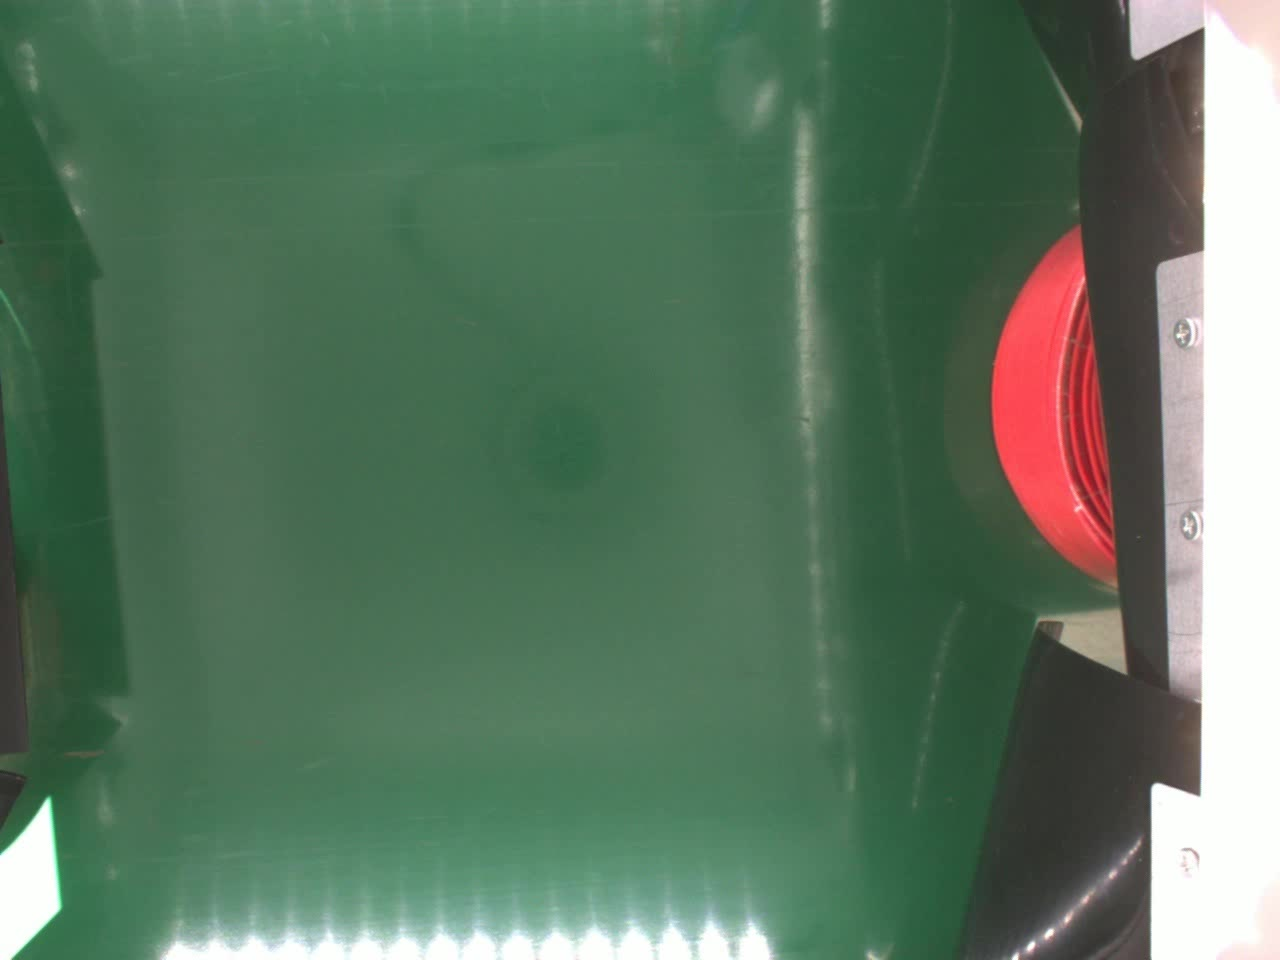red: (990, 219, 1120, 589)
